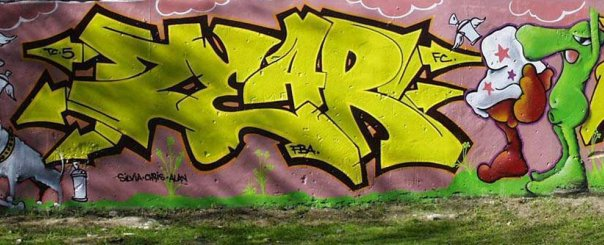graffity: (12, 4, 486, 191), (445, 10, 604, 200), (1, 30, 92, 215)
